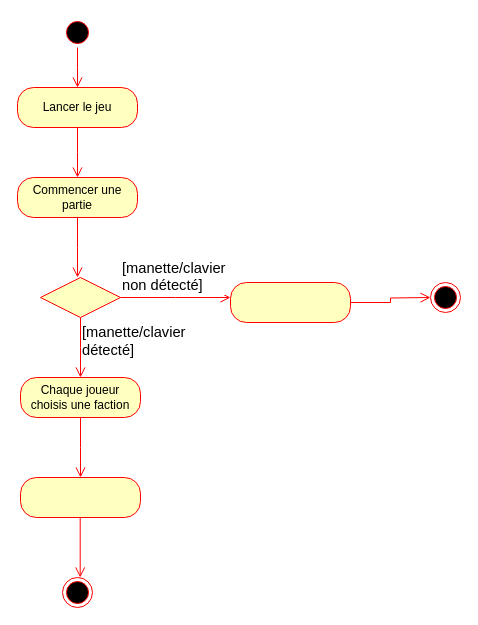
Some shapes in this 478 by 625 pixel diagram are drawn without their labels. The shapes that lost their labels are listed below. From the top down, each one's centre as x and y in pixels, then its label:
[290,302]: système affiche une erreur
[80,497]: Joueur choisi un territoire
